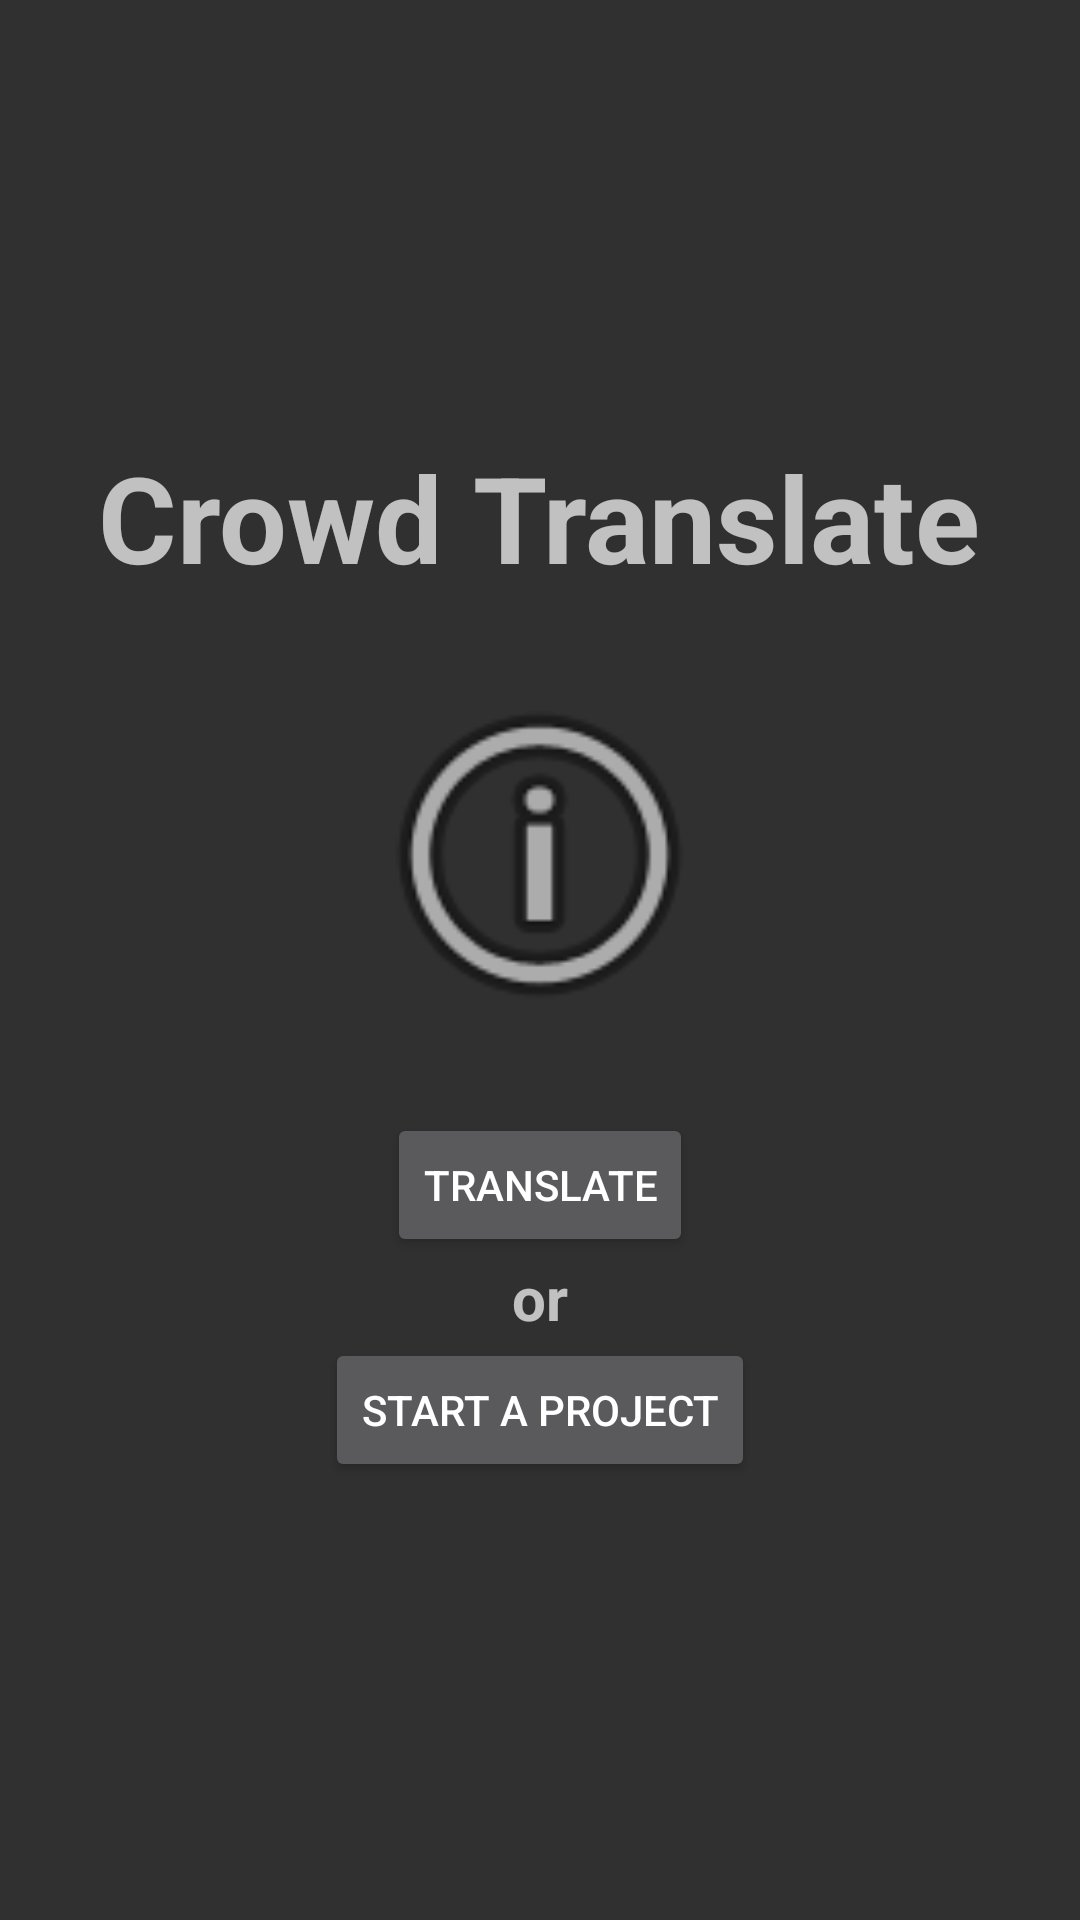

Named icons in this screenshot (1080x1920) and their bounding boxes, (x1, y1, x2, y2):
info details: (409, 724, 670, 986)
